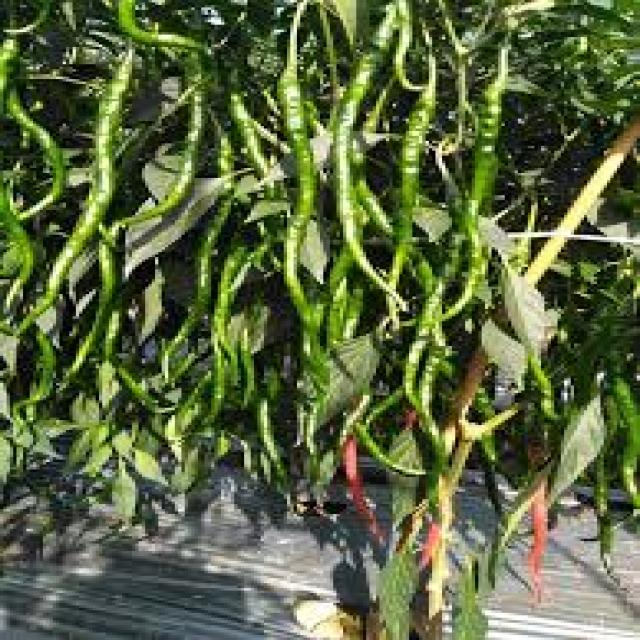sehat: (300, 332, 400, 444), (126, 176, 232, 281), (493, 264, 573, 356)
